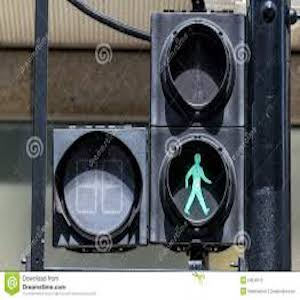green: (179, 147, 213, 213)
